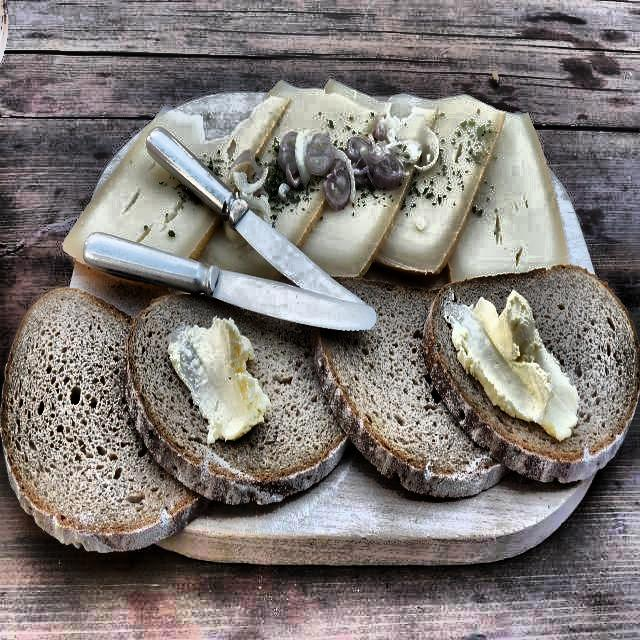knife: (141, 115, 386, 338), (79, 232, 386, 348)
